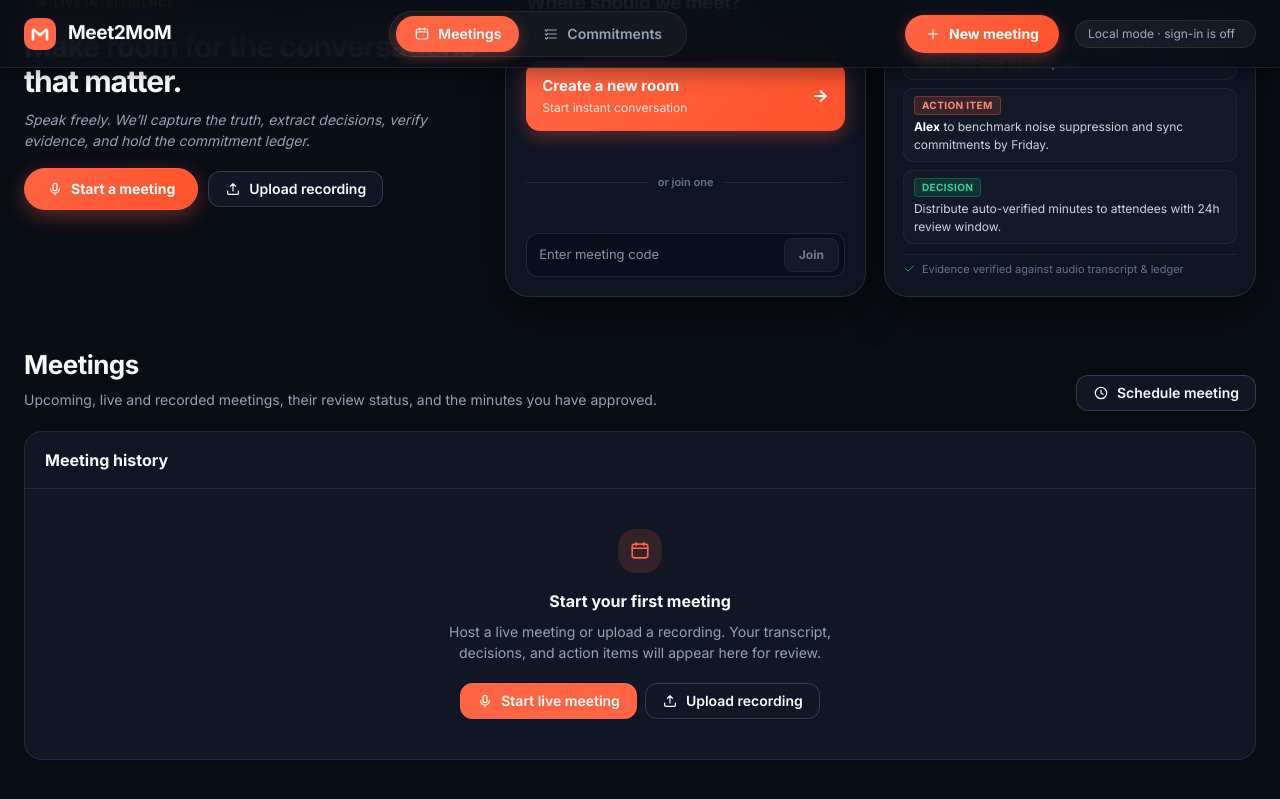
Scenario: Phase 4.1: Real LiveKit Meeting UI & WebRTC Lifecycle › navigates to Live Meeting flow from the start screen
The width and height of the screenshot is (1280, 799).
(page scrolled)
Click the button "Start live meeting" at (549, 701), box [460, 683, 637, 719]
(page scrolled)
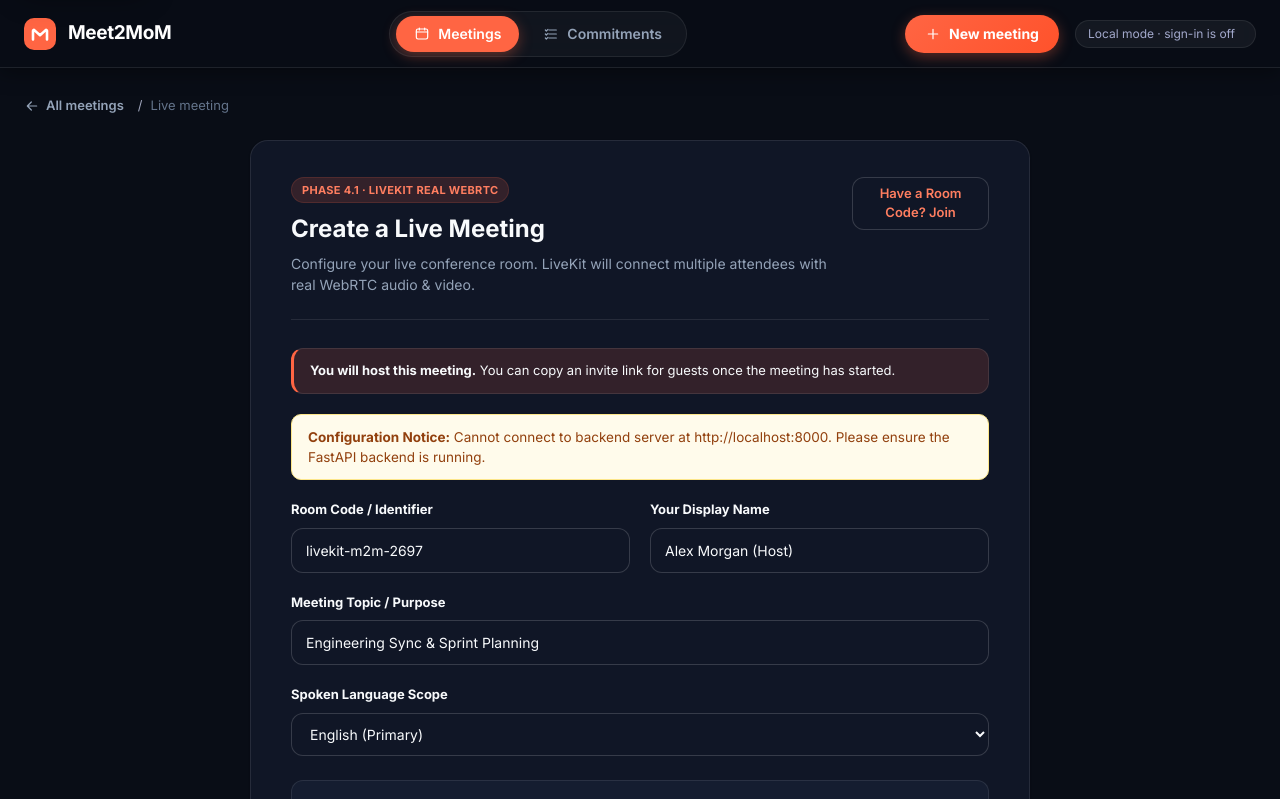
Now the heading "Create a Live Meeting" is shown, box [291, 214, 545, 243]
Now the text "Phase 4.1 · LiveKit Real WebRTC" is shown, box [291, 176, 509, 203]
